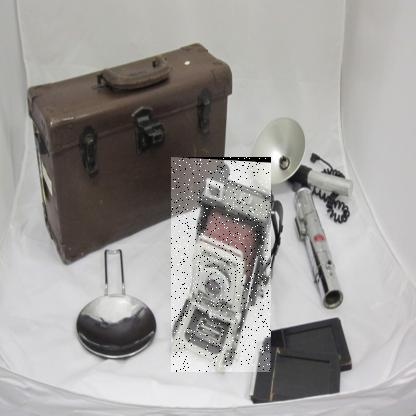Camera: (172, 158, 273, 374)
